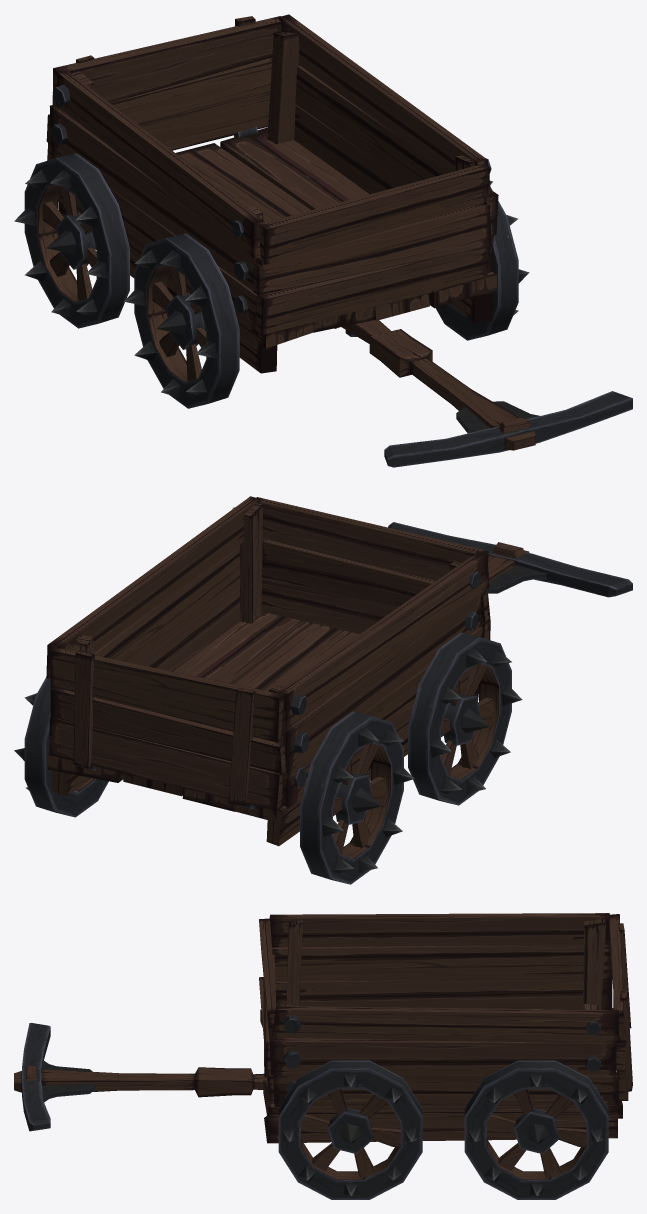
The model's file is SM_PROP_cart_battle_01.fbx.
3 views of the same model, one above another, from view 1: azimuth 30°, elevation 25°; view 2: azimuth 150°, elevation 25°; view 3: azimuth 270°, elevation 25° (orthographic). The views are drawn at different scales.
Parts seen in each view (by area): view 1: SM_PROP_cart_battle_01, SM_PROP_cart_door_battle_01, SM_PROP_cart_wheel_R_front_battle_01, SM_PROP_cart_wheel_R_back_battle_01, SM_PROP_cart_handle_battle_01, SM_PROP_cart_wheel_L_front_battle_01; view 2: SM_PROP_cart_battle_01, SM_PROP_cart_door_battle_01, SM_PROP_cart_wheel_R_back_battle_01, SM_PROP_cart_wheel_R_front_battle_01, SM_PROP_cart_handle_battle_01, SM_PROP_cart_wheel_L_back_battle_01; view 3: SM_PROP_cart_battle_01, SM_PROP_cart_wheel_L_front_battle_01, SM_PROP_cart_wheel_L_back_battle_01, SM_PROP_cart_handle_battle_01, SM_PROP_cart_door_battle_01.
Part boxes in pixels (x1,y1,x2,y2): SM_PROP_cart_battle_01: (46,14,498,373); SM_PROP_cart_door_battle_01: (46,16,281,160); SM_PROP_cart_wheel_R_front_battle_01: (124,233,239,408); SM_PROP_cart_wheel_R_back_battle_01: (14,153,129,328); SM_PROP_cart_handle_battle_01: (341,320,632,467); SM_PROP_cart_wheel_L_front_battle_01: (435,180,529,340); SM_PROP_cart_battle_01: (46,496,490,846); SM_PROP_cart_door_battle_01: (49,648,287,810); SM_PROP_cart_wheel_R_back_battle_01: (300,711,414,884); SM_PROP_cart_wheel_R_front_battle_01: (408,632,522,805); SM_PROP_cart_handle_battle_01: (388,522,632,597); SM_PROP_cart_wheel_L_back_battle_01: (14,677,108,817); SM_PROP_cart_battle_01: (259,913,622,1143); SM_PROP_cart_wheel_L_front_battle_01: (278,1060,422,1199); SM_PROP_cart_wheel_L_back_battle_01: (464,1060,608,1199); SM_PROP_cart_handle_battle_01: (14,1023,266,1131); SM_PROP_cart_door_battle_01: (609,914,632,1101).
Size of the model in its own units: 239 by 140 by 442.
